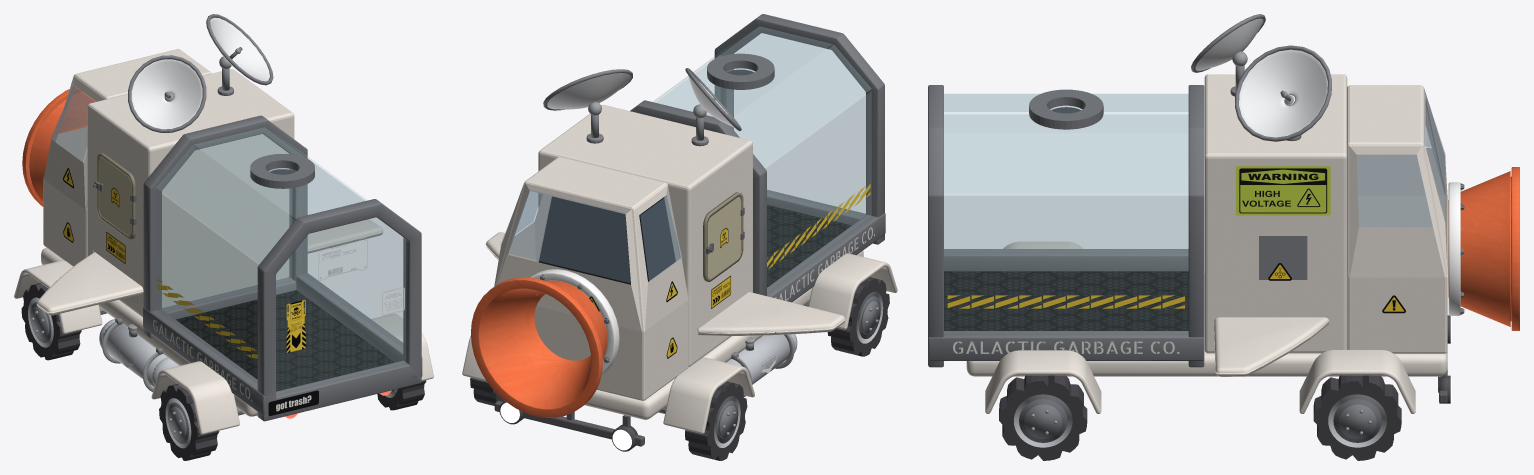
The model's file is garbage-truck-concept.glb.
3 renders of one model, left to right at view 1: azimuth 30°, elevation 25°; view 2: azimuth 150°, elevation 25°; view 3: azimuth 270°, elevation 25°, orthographic. The views are drawn at different scales.
Parts seen in each view (by area): view 1: CabHatch, ContainerGlassBack, ContainerGlassFront, ContainerGlassLeft, ContainerFrameBack, ContainerGlassRight, ContainerFloor, ContainerFrameFront, CabNose, ContainerGlassLeftSlant, ContainerGlassRoof, SatDishA_Dish (+28 smaller); view 2: CabNose, CabHatch, ContainerGlassBack, SuctionCone, ContainerGlassLeft, CabInteriorBack, ContainerFrameBack, CabGlassWindshield, ContainerGlassLeftSlant, ContainerGlassRoof, CabWingL, WheelWellFL (+26 smaller); view 3: ContainerGlassLeft, ContainerGlassRight, CabNose, CabHatch, ContainerGlassRightSlant, ContainerFloor, SuctionCone, ContainerGlassRoof, ContainerFrameBottomR, SatDishB_Dish, ContainerFrameBottomL, CabGlassR (+24 smaller).
Part boxes in pixels (<box>): CabHatch: <box>87,69,294,317</box>; ContainerGlassBack: <box>276,217,405,393</box>; ContainerGlassFront: <box>162,134,291,309</box>; ContainerGlassLeft: <box>156,190,258,383</box>; ContainerFrameBack: <box>257,199,421,421</box>; ContainerGlassRight: <box>302,155,402,347</box>; ContainerFloor: <box>176,290,394,391</box>; ContainerFrameFront: <box>143,115,307,337</box>; CabNose: <box>43,49,211,266</box>; ContainerGlassLeftSlant: <box>157,145,294,262</box>; ContainerGlassRoof: <box>194,127,364,218</box>; SatDishA_Dish: <box>131,59,202,129</box>; CabNose: <box>494,157,688,400</box>; CabHatch: <box>538,105,752,366</box>; ContainerGlassBack: <box>731,33,865,215</box>; SuctionCone: <box>471,277,607,417</box>; ContainerGlassLeft: <box>766,91,871,291</box>; CabInteriorBack: <box>539,196,675,284</box>; ContainerFrameBack: <box>714,14,884,244</box>; CabGlassWindshield: <box>507,190,630,282</box>; ContainerGlassLeftSlant: <box>731,45,871,166</box>; ContainerGlassRoof: <box>656,26,832,116</box>; CabWingL: <box>697,292,845,337</box>; WheelWellFL: <box>663,357,754,433</box>; ContainerGlassLeft: <box>944,115,1188,251</box>; ContainerGlassRight: <box>944,196,1188,332</box>; CabNose: <box>1347,85,1447,353</box>; CabHatch: <box>1204,74,1347,353</box>; ContainerGlassRightSlant: <box>944,134,1188,192</box>; ContainerFloor: <box>944,271,1188,330</box>; SuctionCone: <box>1448,167,1519,330</box>; ContainerGlassRoof: <box>944,94,1188,133</box>; ContainerFrameBottomR: <box>928,331,1204,360</box>; SatDishB_Dish: <box>1239,49,1327,137</box>; ContainerFrameBottomL: <box>944,249,1188,271</box>; CabGlassR: <box>1357,155,1432,227</box>.
Size of the model in its own units: 2.56 by 2.34 by 3.43.
47 materials, 21 textured.
